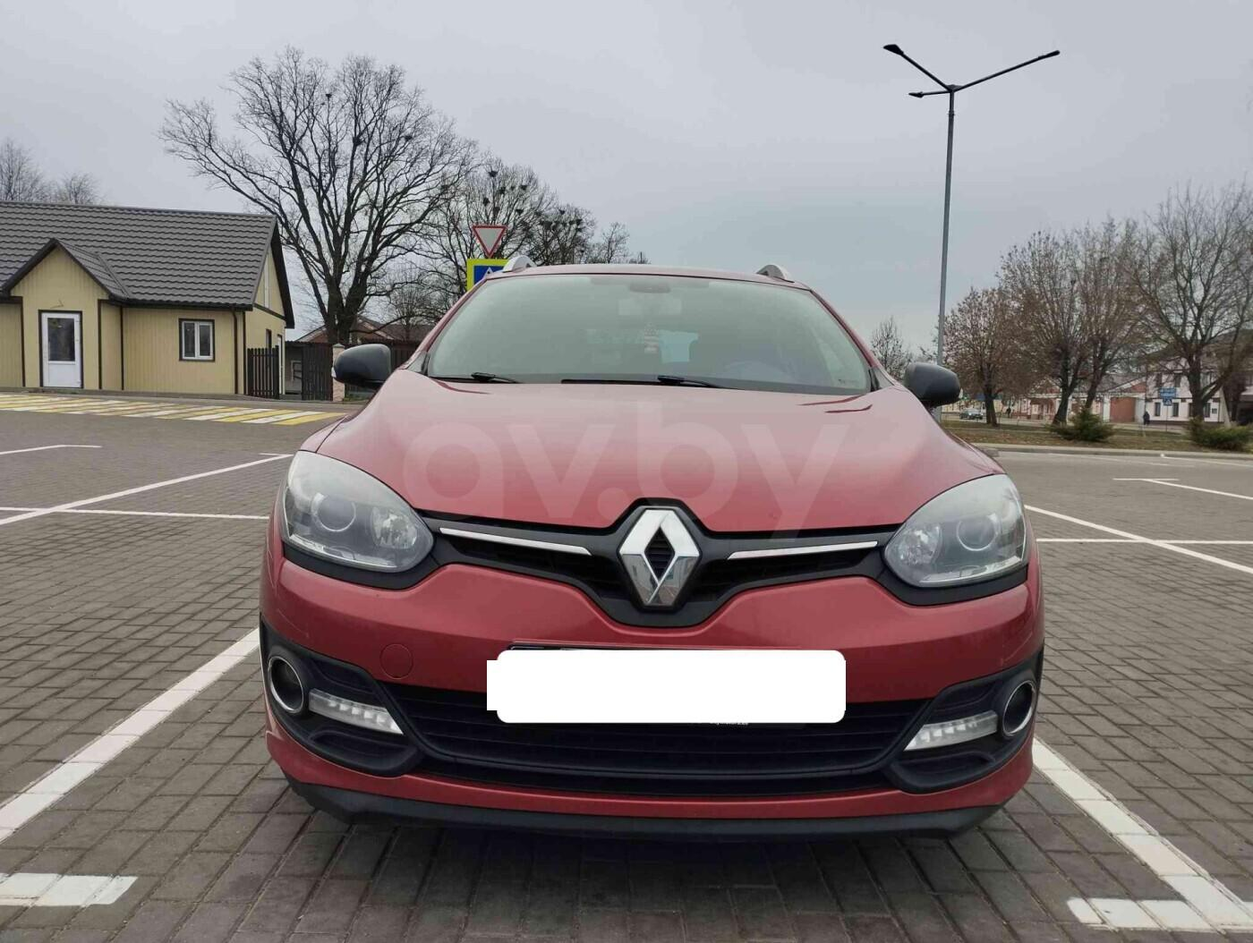Megane_2014-2016: (249, 254, 1052, 856)
